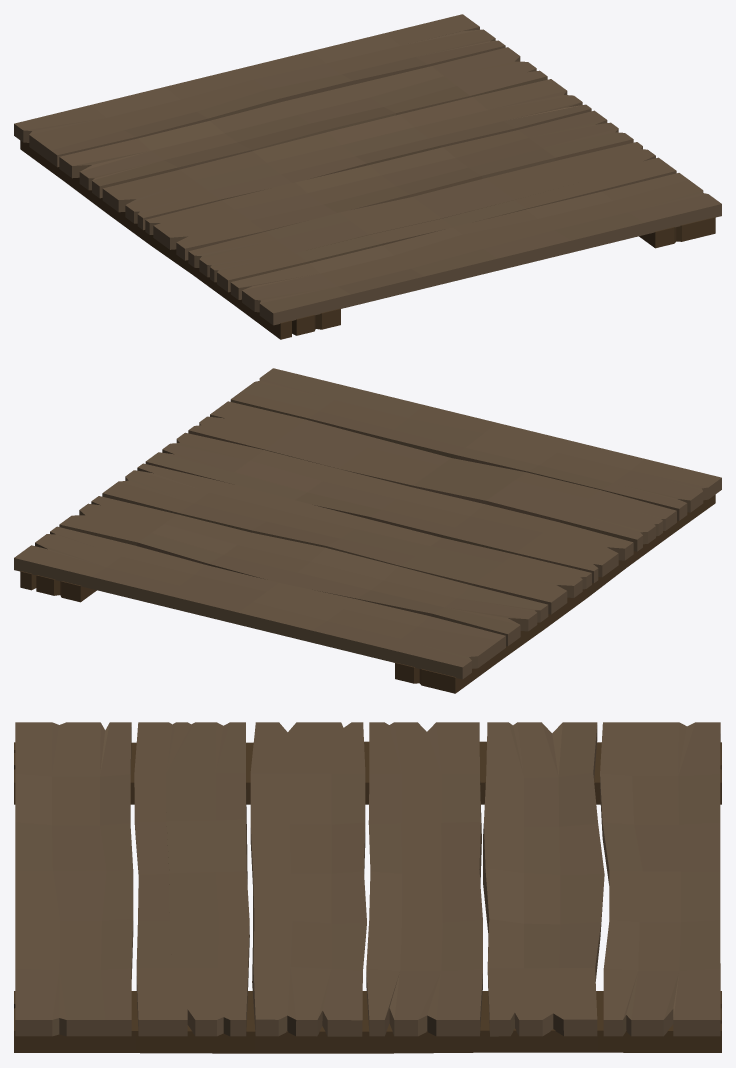
The model's file is wood_floor.gltf.
The picture shows the model from 3 angles, top to bottom: view 1: azimuth 30°, elevation 25°; view 2: azimuth 150°, elevation 25°; view 3: azimuth 270°, elevation 25°; orthographic projection. The views are drawn at different scales.
Parts seen in each view (by area): view 1: Balcony; view 2: Balcony; view 3: Balcony.
Boxes of the visible parts, bbox=[...] form: Balcony: bbox=[14, 14, 721, 339]; Balcony: bbox=[14, 368, 721, 693]; Balcony: bbox=[14, 722, 721, 1053].
Bounding box in the file's own units: 3.96 × 0.2505 × 3.98.
1 material, 1 textured.
